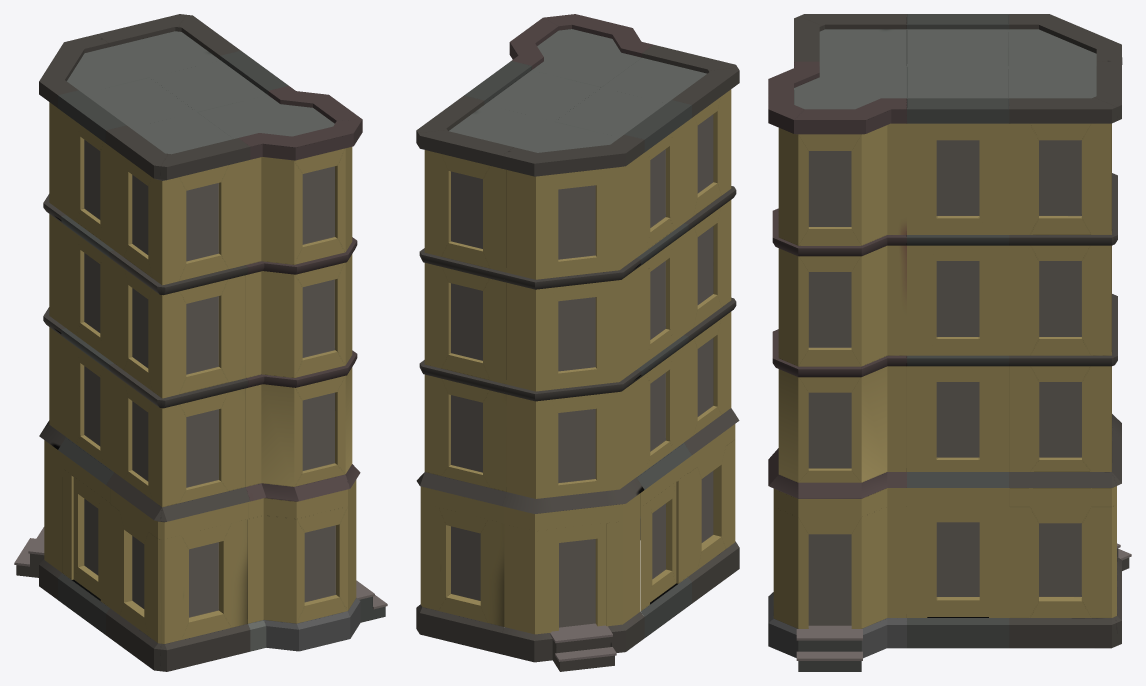
Rendered from kamienica2-final.fbx.
3 views of the same model, side by side, from view 1: azimuth 30°, elevation 25°; view 2: azimuth 150°, elevation 25°; view 3: azimuth 270°, elevation 25° (orthographic). The views are drawn at different scales.
Parts seen in each view (by area): view 1: bok1.001, Plane, bok1.008, bok1.003, bok1.010, bok1.007; view 2: bok1.003, bok1.010, bok1.001, bok1.008, Plane, bok1.007; view 3: Plane, bok1.010, bok1.007, bok1.001, bok1.003, bok1.008.
Boxes of the visible parts, x1,y1,x2,y2 form: bok1.001: (106, 112, 250, 671); Plane: (198, 86, 387, 651); bok1.008: (58, 77, 196, 634); bok1.003: (14, 34, 148, 599); bok1.010: (97, 14, 240, 77); bok1.007: (150, 50, 288, 112); bok1.003: (502, 122, 644, 671); bok1.010: (416, 95, 553, 654); bok1.001: (602, 45, 739, 603); bok1.008: (554, 87, 691, 637); Plane: (509, 14, 653, 539); bok1.007: (464, 61, 601, 121); Plane: (768, 61, 906, 671); bok1.010: (1009, 61, 1121, 648); bok1.007: (907, 66, 1009, 648); bok1.001: (794, 14, 906, 66); bok1.003: (1009, 14, 1131, 576); bok1.008: (907, 14, 1009, 66).
Bounding box in the file's own units: 571 × 1160 × 708.
